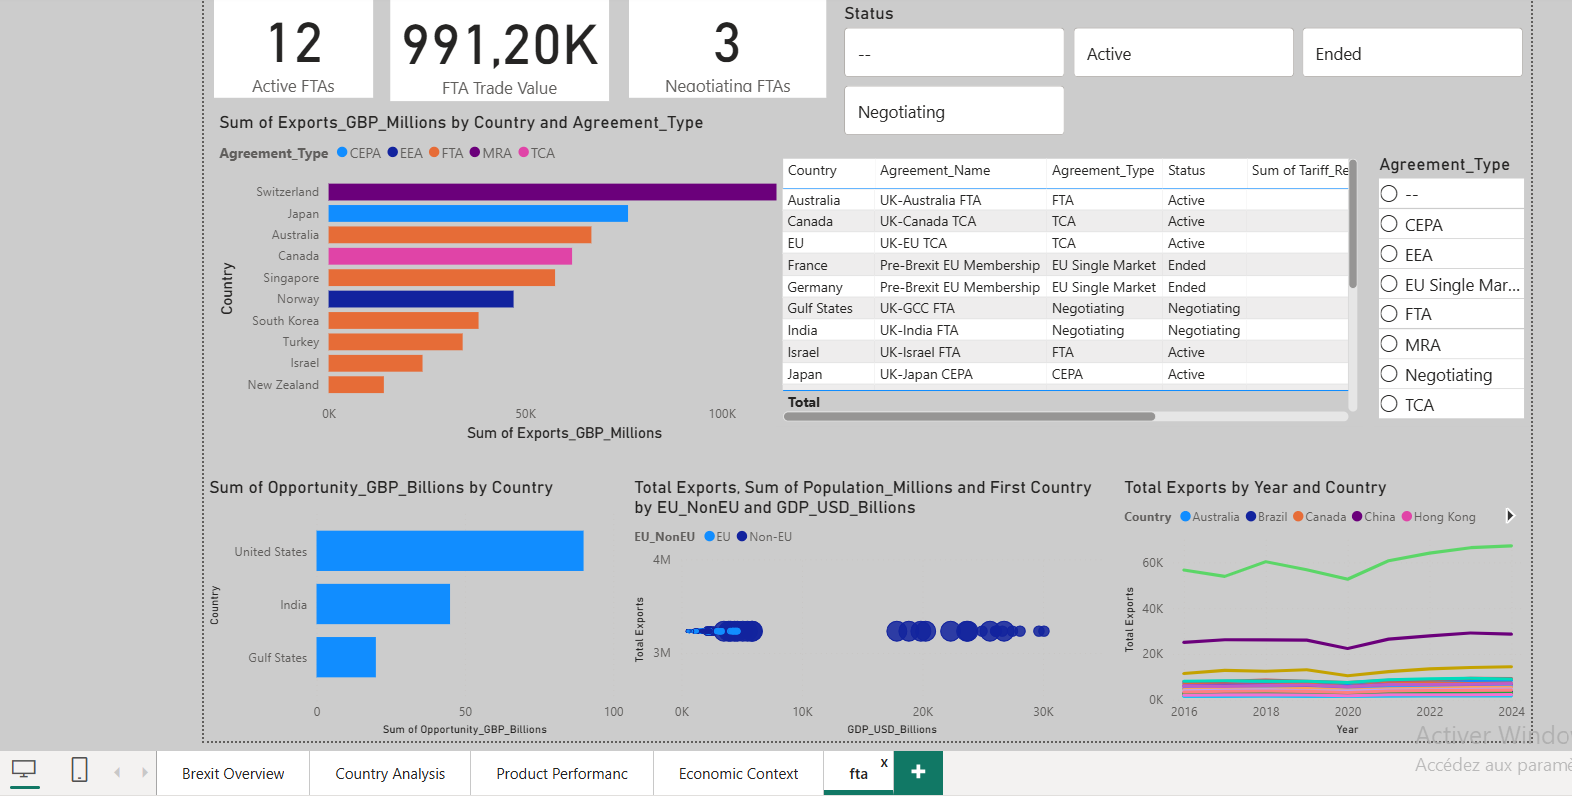

This screenshot's page, from the dashboard's own definition file:
{"tool":"powerbi","page":{"name":"fta","canvas":[1280,720],"ordinal":4},"visuals":[{"type":"card","fields":{"Values":["richlist dataset5_uk_trade_agreements.Active FTAs"]},"box":[9.7,0,153.2,98.9],"z":0},{"type":"card","fields":{"Values":["richlist dataset5_uk_trade_agreements.FTA Trade Value"]},"box":[179.8,0,211.1,102.5],"z":1000},{"type":"card","fields":{"Values":["richlist dataset5_uk_trade_agreements.Negotiating FTAs"]},"box":[410.2,0,190.6,98.9],"z":2000},{"type":"barChart","fields":{"Category":["richlist dataset5_uk_trade_agreements.Country"],"Series":["richlist dataset5_uk_trade_agreements.Agreement_Type"],"Y":["Sum(richlist table1_trade_by_country.Exports_GBP_Millions)"]},"box":[9.7,112.2,585.1,323.3],"z":3000},{"type":"tableEx","fields":{"Values":["richlist dataset5_uk_trade_agreements.Country","richlist dataset5_uk_trade_agreements.Agreement_Name","richlist dataset5_uk_trade_agreements.Agreement_Type","richlist dataset5_uk_trade_agreements.Status","Sum(richlist dataset5_uk_trade_agreements.Tariff_Reduction_Pct)","Sum(richlist dataset5_uk_trade_agreements.Trade_Value_GBP_Millions)"]},"box":[552.5,153.2,565.8,263],"z":4000},{"type":"scatterChart","fields":{"X":["richlist dataset6_trading_partner_gdp.GDP_USD_Billions"],"Series":["richlist dataset6_trading_partner_gdp.EU_NonEU"],"Y":["richlist table1_trade_by_country.Total Exports"],"Size":["Sum(richlist dataset6_trading_partner_gdp.Population_Millions)"]},"box":[410.2,464.5,472.9,255.8],"z":5000},{"type":"barChart","fields":{"Y":["Sum(Pending_FTAs.Opportunity_GBP_Billions)"],"Category":["Pending_FTAs.Country"]},"box":[0,464.5,410.2,255.8],"z":6000},{"type":"lineChart","fields":{"Category":["richlist table1_trade_by_country.Year"],"Series":["richlist table1_trade_by_country.Country"],"Y":["richlist table1_trade_by_country.Total Exports"]},"box":[883.1,464.5,396.9,255.8],"z":7000},{"type":"advancedSlicerVisual","fields":{"Values":["richlist dataset5_uk_trade_agreements.Status"]},"box":[612.9,7.2,667.2,133.9],"z":8000},{"type":"listSlicer","fields":{"Values":["richlist dataset5_uk_trade_agreements.Agreement_Type"]},"box":[1129.2,153.2,150.8,263],"z":9000}]}

Visuals, with their boxes on the page's 1280x720 design canvas (x1, y1, x2, y2). These are canvas units, not pixel positions in the 1572x796 screenshot, which may show the page scaled, cropped or inside an application window:
card - richlist dataset5_uk_trade_agreements.Active FTAs: {"left": 10, "top": 0, "right": 163, "bottom": 99}
card - richlist dataset5_uk_trade_agreements.FTA Trade Value: {"left": 180, "top": 0, "right": 391, "bottom": 102}
card - richlist dataset5_uk_trade_agreements.Negotiating FTAs: {"left": 410, "top": 0, "right": 601, "bottom": 99}
barChart - richlist dataset5_uk_trade_agreements.Country x richlist dataset5_uk_trade_agreements.Agreement_Type: {"left": 10, "top": 112, "right": 595, "bottom": 436}
tableEx - richlist dataset5_uk_trade_agreements.Country x richlist dataset5_uk_trade_agreements.Agreement_Name: {"left": 552, "top": 153, "right": 1118, "bottom": 416}
scatterChart - richlist dataset6_trading_partner_gdp.GDP_USD_Billions x richlist dataset6_trading_partner_gdp.EU_NonEU: {"left": 410, "top": 464, "right": 883, "bottom": 720}
barChart - Sum(Pending_FTAs.Opportunity_GBP_Billions) x Pending_FTAs.Country: {"left": 0, "top": 464, "right": 410, "bottom": 720}
lineChart - richlist table1_trade_by_country.Year x richlist table1_trade_by_country.Country: {"left": 883, "top": 464, "right": 1280, "bottom": 720}
advancedSlicerVisual - richlist dataset5_uk_trade_agreements.Status: {"left": 613, "top": 7, "right": 1280, "bottom": 141}
listSlicer - richlist dataset5_uk_trade_agreements.Agreement_Type: {"left": 1129, "top": 153, "right": 1280, "bottom": 416}
